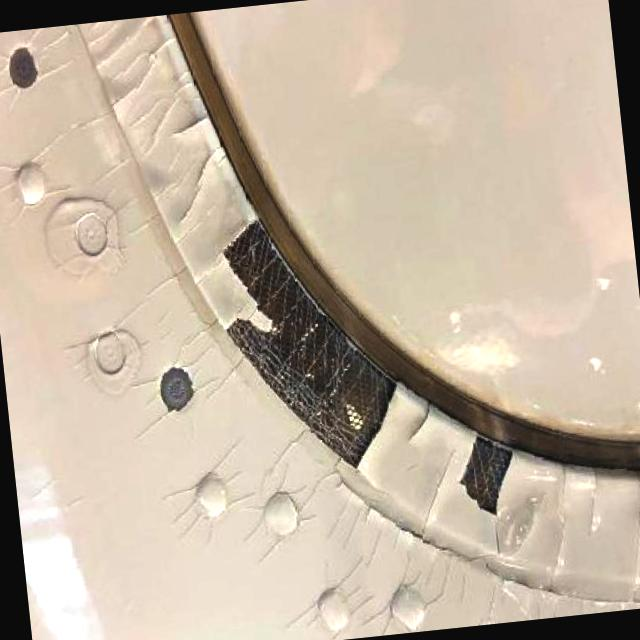crack: (331, 439, 638, 609), (171, 136, 224, 232), (491, 486, 549, 562), (548, 460, 570, 587), (404, 395, 435, 449), (629, 470, 640, 597), (168, 110, 213, 140), (584, 463, 601, 541)
